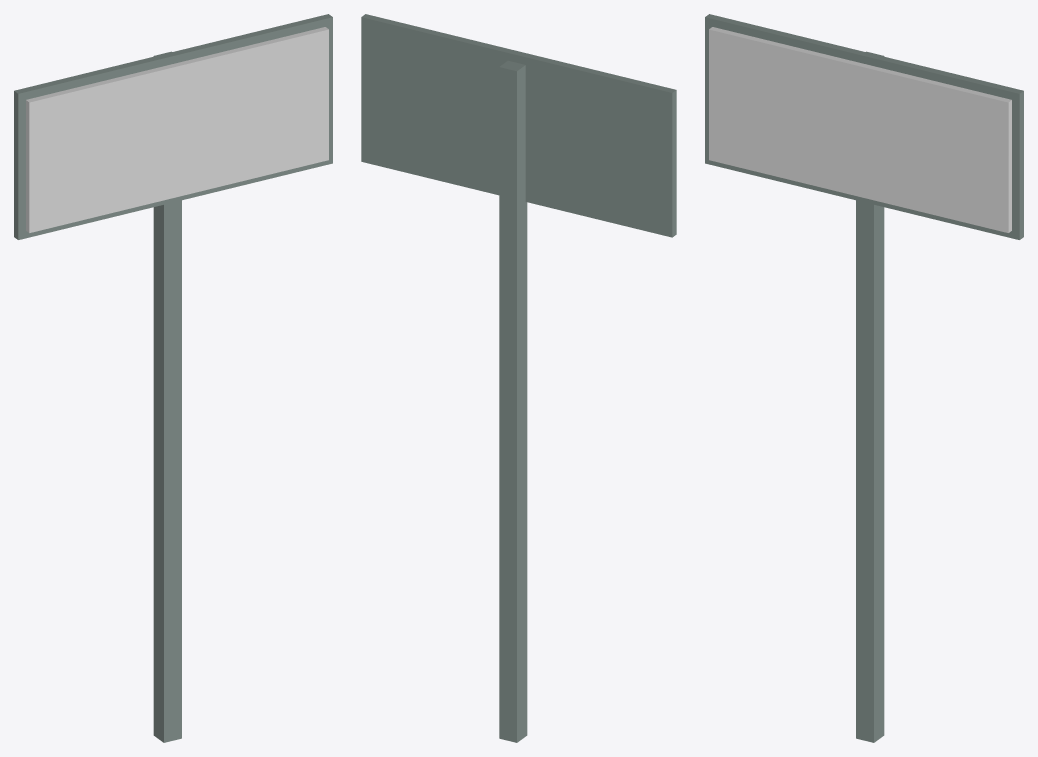
File: SM_Senal_v0_Direccion_LOD0.fbx
3 views of the same model, side by side, from view 1: azimuth 30°, elevation 25°; view 2: azimuth 150°, elevation 25°; view 3: azimuth 330°, elevation 25° (orthographic).
Visible parts, largest first — view 1: SM_urbano_extra_v15_LOD0; view 2: SM_urbano_extra_v15_LOD0; view 3: SM_urbano_extra_v15_LOD0.
Boxes of the visible parts, x1,y1,x2,y2 form: SM_urbano_extra_v15_LOD0: (14,14,332,742); SM_urbano_extra_v15_LOD0: (361,14,676,742); SM_urbano_extra_v15_LOD0: (705,14,1023,742).
Size of the model in its own units: 1.26 by 2.63 by 0.116.
